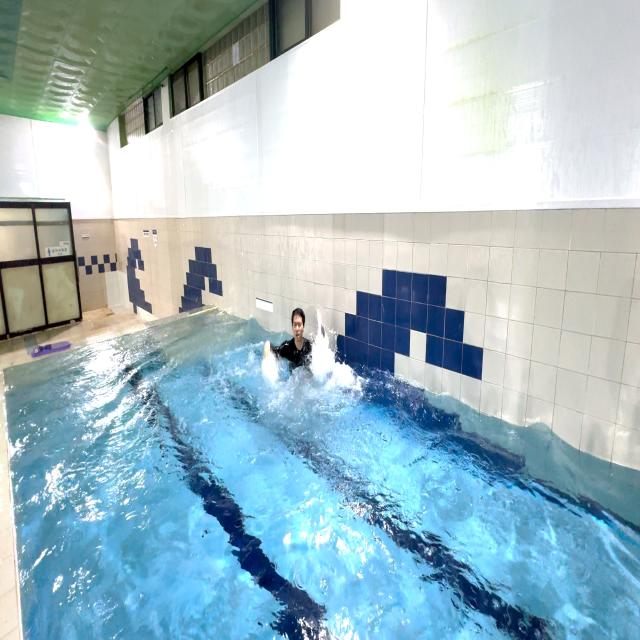Drowning: (258, 296, 336, 394)
